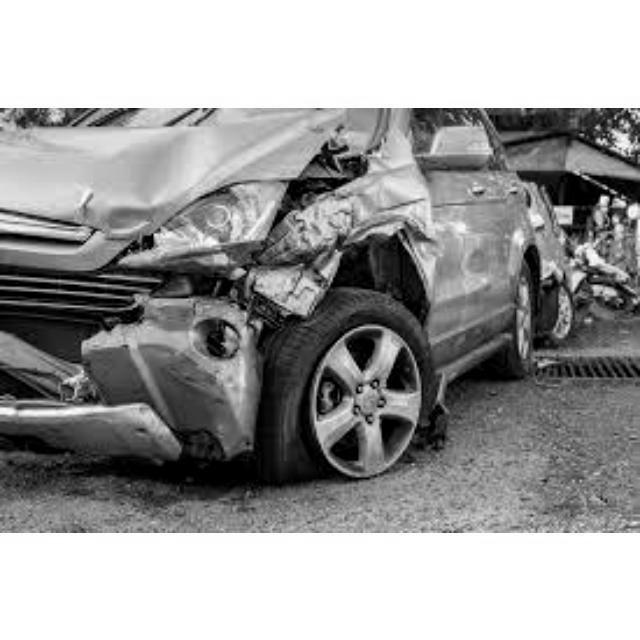bonnet-dent: (0, 110, 288, 214)
fender-dent: (296, 138, 426, 293)
front-bumper-dent: (0, 277, 260, 467)
